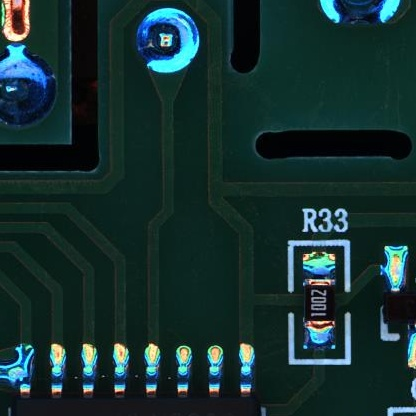spot: (133, 8, 199, 72), (1, 52, 55, 129)
